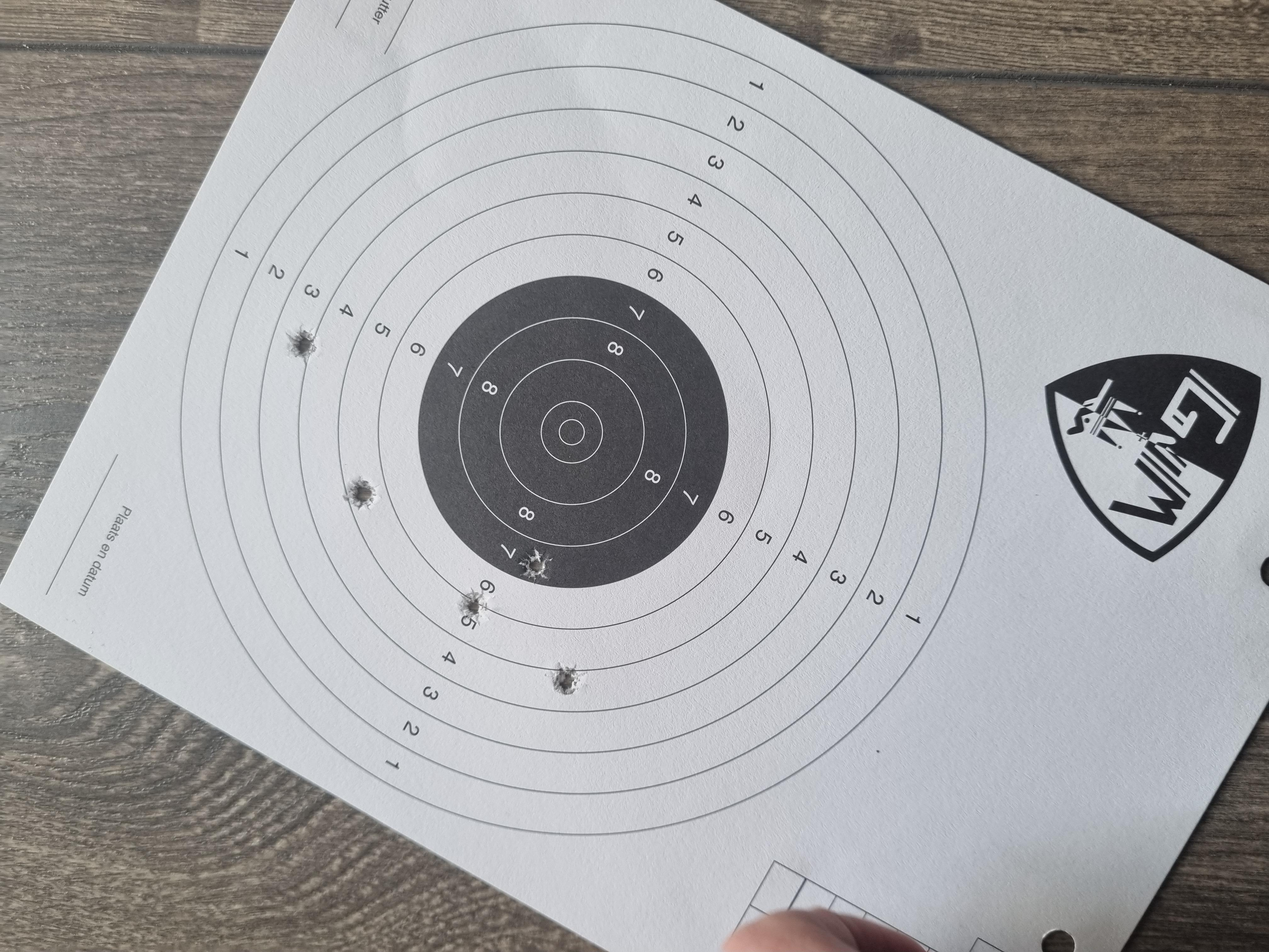hole: (435, 343, 487, 366), (491, 390, 539, 414), (783, 216, 834, 238), (589, 258, 629, 283), (342, 414, 387, 435)
